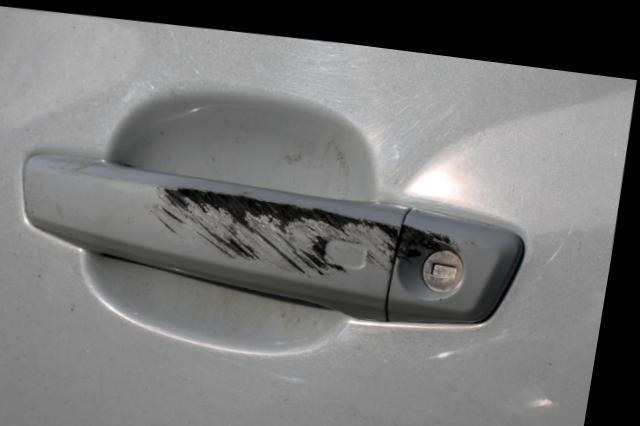scratch: (147, 177, 459, 269)
